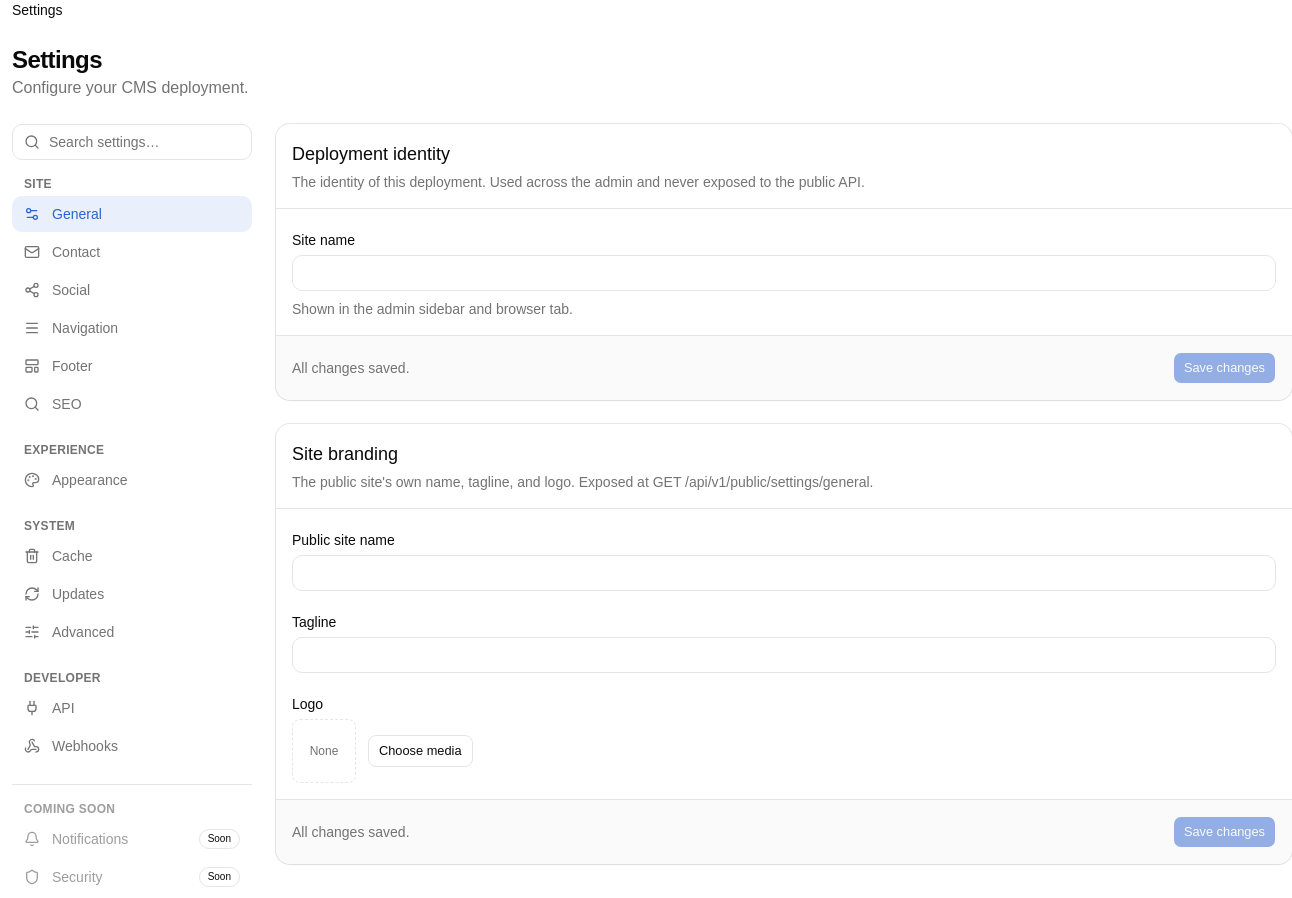
Test: SettingsPage › shows the Turnstile site key on the API section when configured, and a plain "Not set" badge otherwise
Expected: the field labelled "Site name" is shown, x1=292 y1=255 x2=1276 y2=291
Click the button "API" at coordinates (132, 708), box x1=12 y1=690 x2=252 y2=726
(page scrolled)
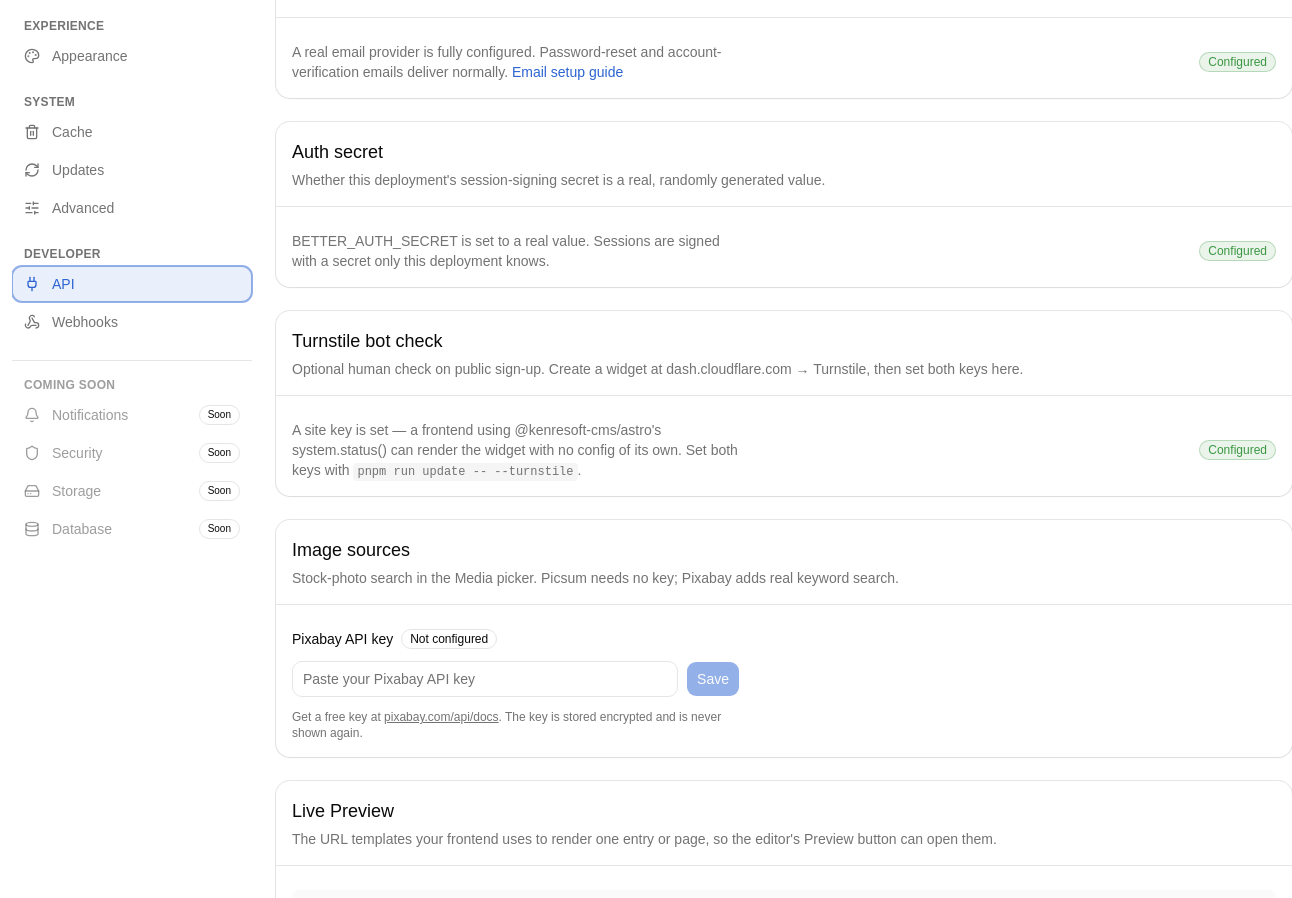
Expected: the text "Turnstile bot check" is shown, x1=292 y1=331 x2=442 y2=351
Expected: the text "@kenresoft-cms/astro's system.status()" is shown, x1=292 y1=422 x2=682 y2=458
Expected: the text "Configured" is shown 3 times, x1=1199 y1=52 x2=1276 y2=72; x1=1199 y1=241 x2=1276 y2=261; x1=1199 y1=440 x2=1276 y2=460
